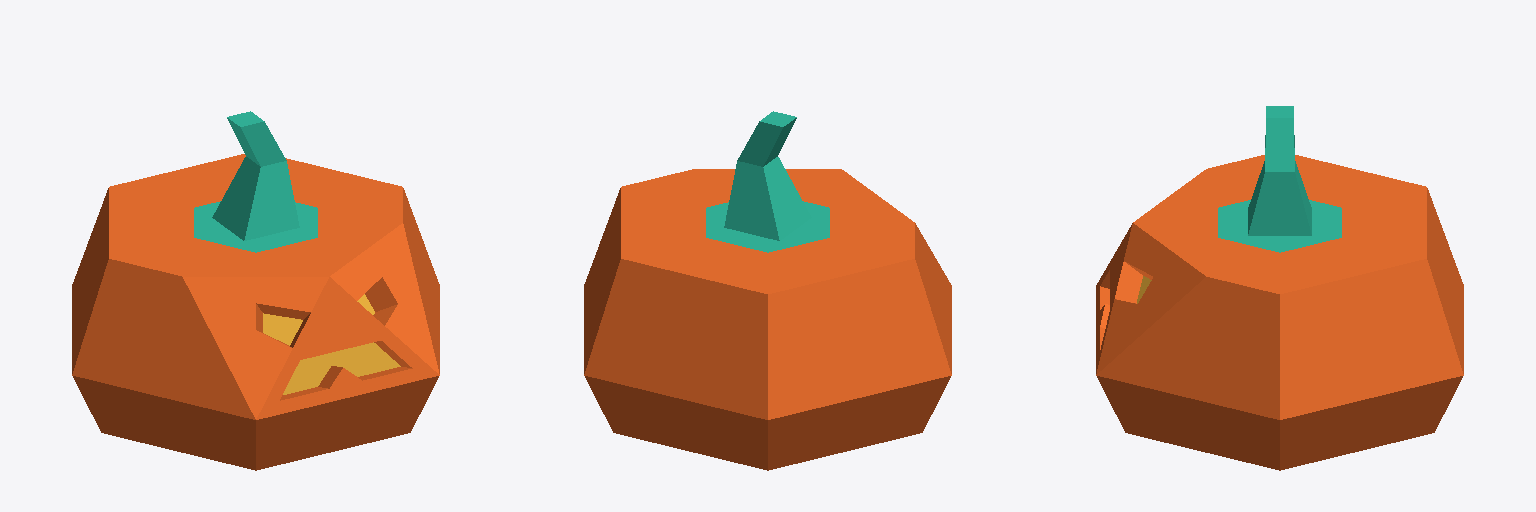
File: pumpkinCarved.obj
The picture shows the model from 3 angles: view 1: azimuth 30°, elevation 25°; view 2: azimuth 150°, elevation 25°; view 3: azimuth 270°, elevation 25°; orthographic projection.
Visible parts, largest first — view 1: pumpkinCarved; view 2: pumpkinCarved; view 3: pumpkinCarved.
Boxes of the visible parts, box(x1,y1,x2,y2) form: pumpkinCarved: box(72, 111, 439, 470); pumpkinCarved: box(584, 111, 951, 470); pumpkinCarved: box(1096, 106, 1463, 470).
Bounding box in the file's own units: 0.357 × 0.2583 × 0.3092.